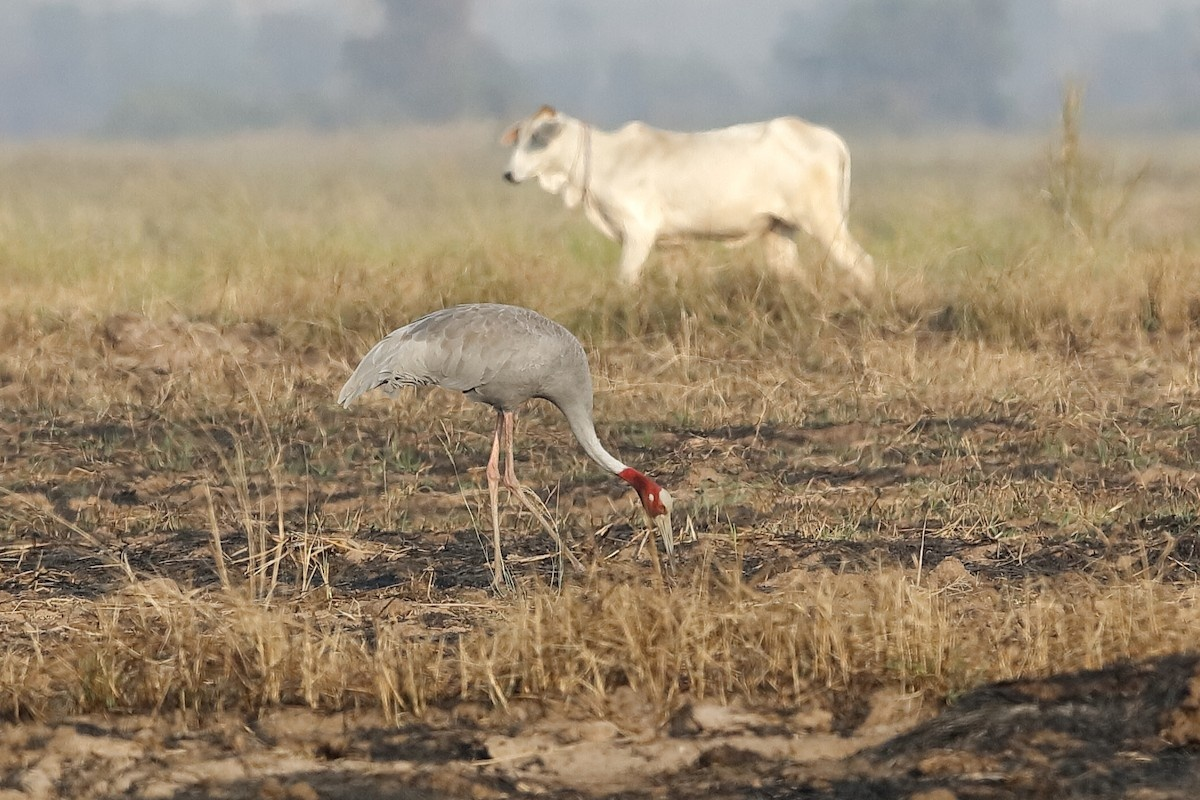crane: (325, 286, 684, 592)
